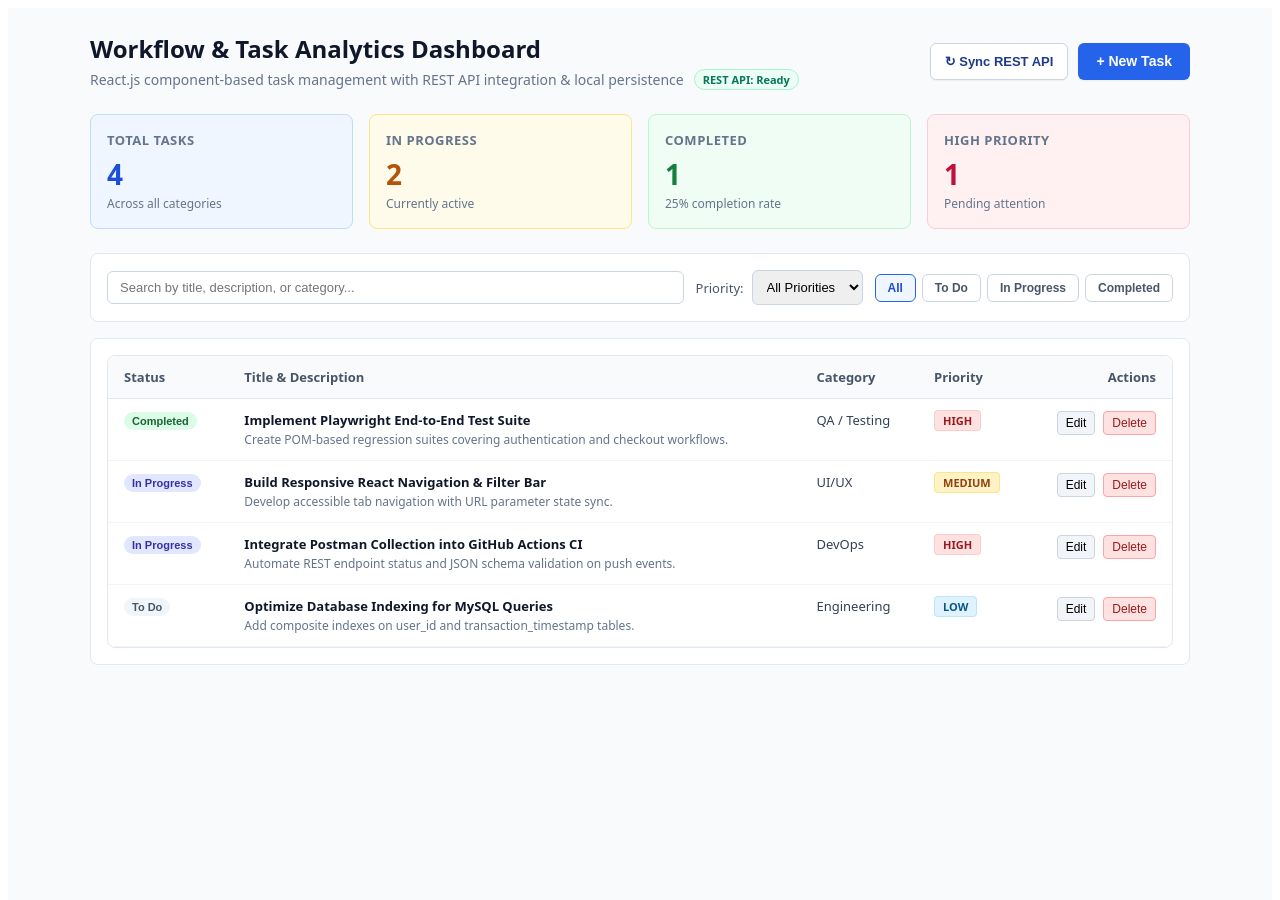
Scenario: App Dashboard Integration › opens and closes the task creation modal
Click the button "+ New Task" at (1134, 61), box [1078,42,1190,80]
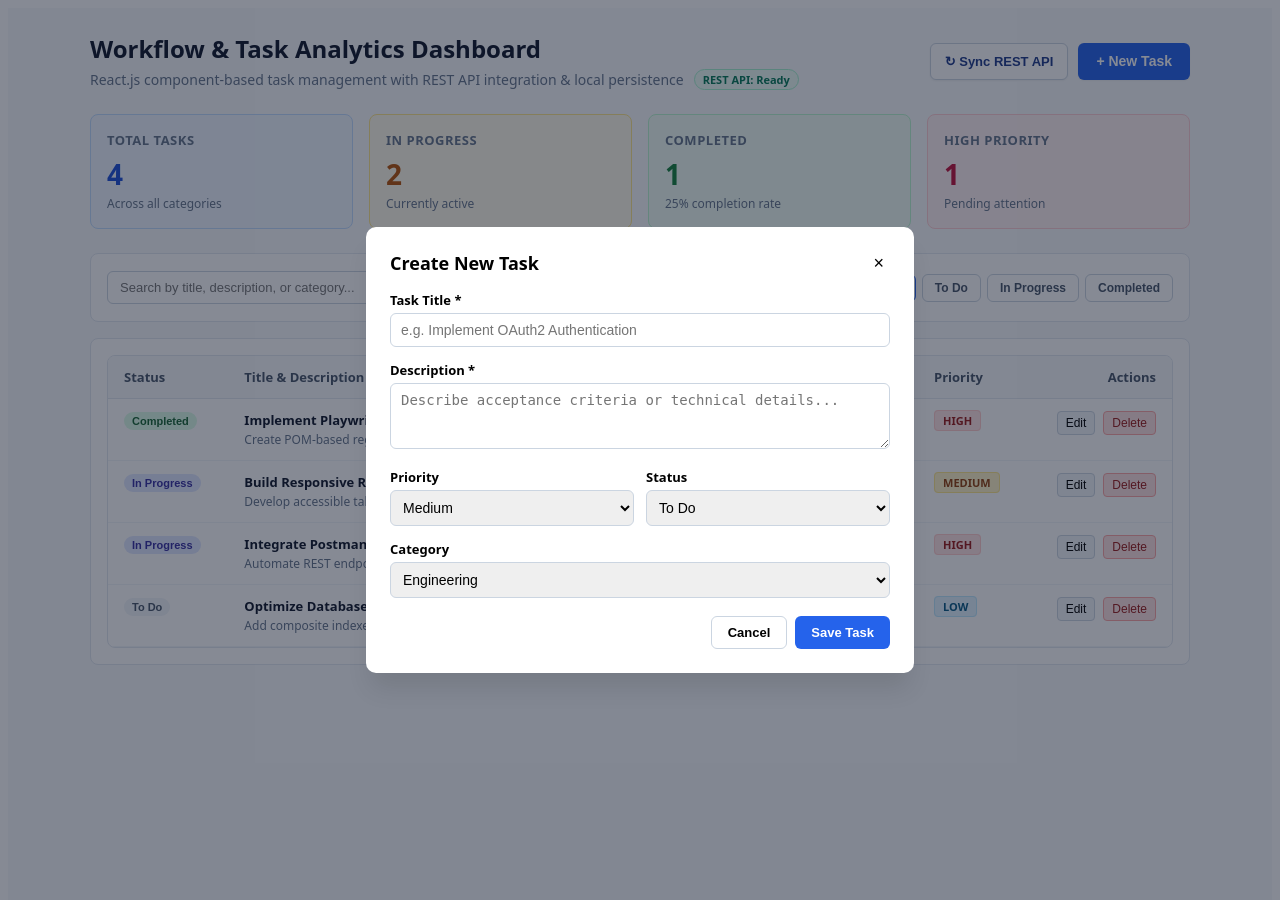
expect the dialog is shown: met
Click the button "Cancel" at (749, 632), box [711,616,787,649]
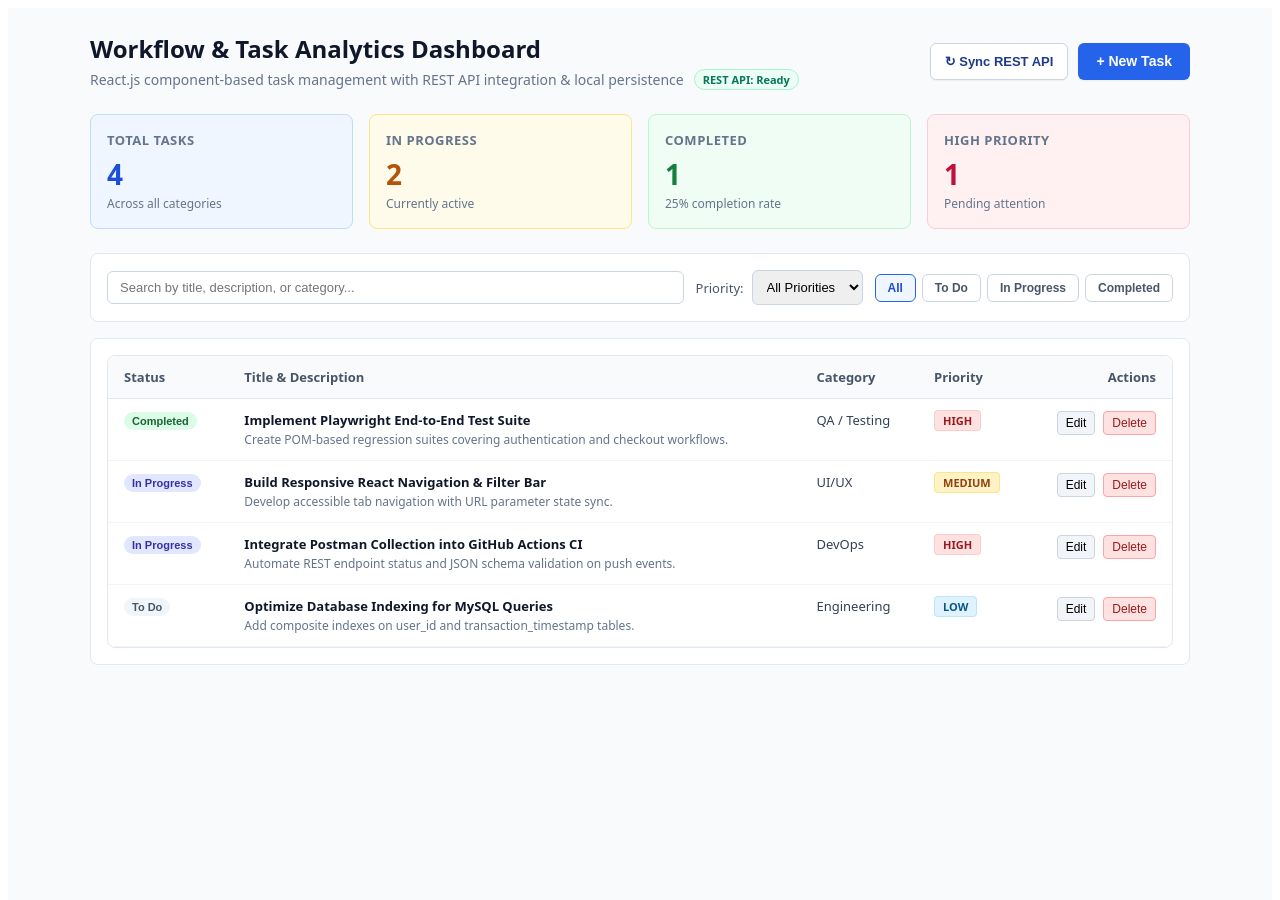
expect the dialog is gone: met
